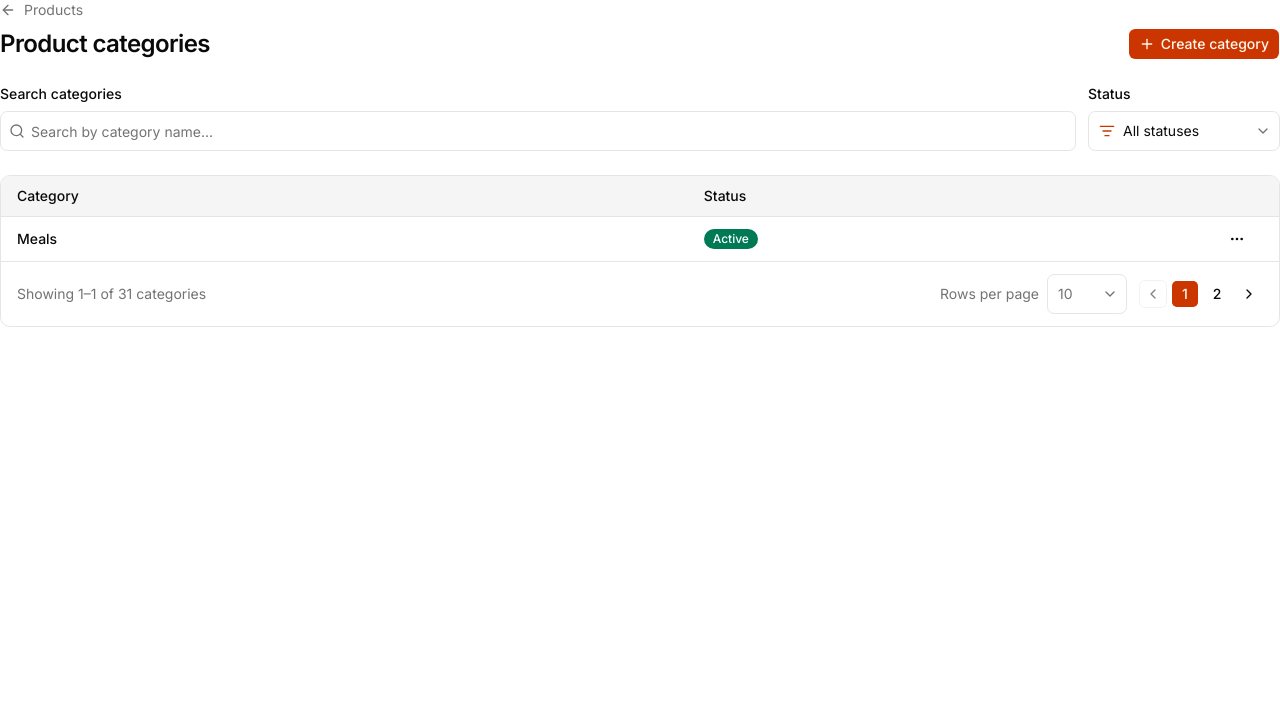
category management › validates name-only creation, retains a duplicate-name draft and retries successfully
The image size is (1280, 720).
Click the button "Create category" at (1204, 44), box [1128, 28, 1279, 60]
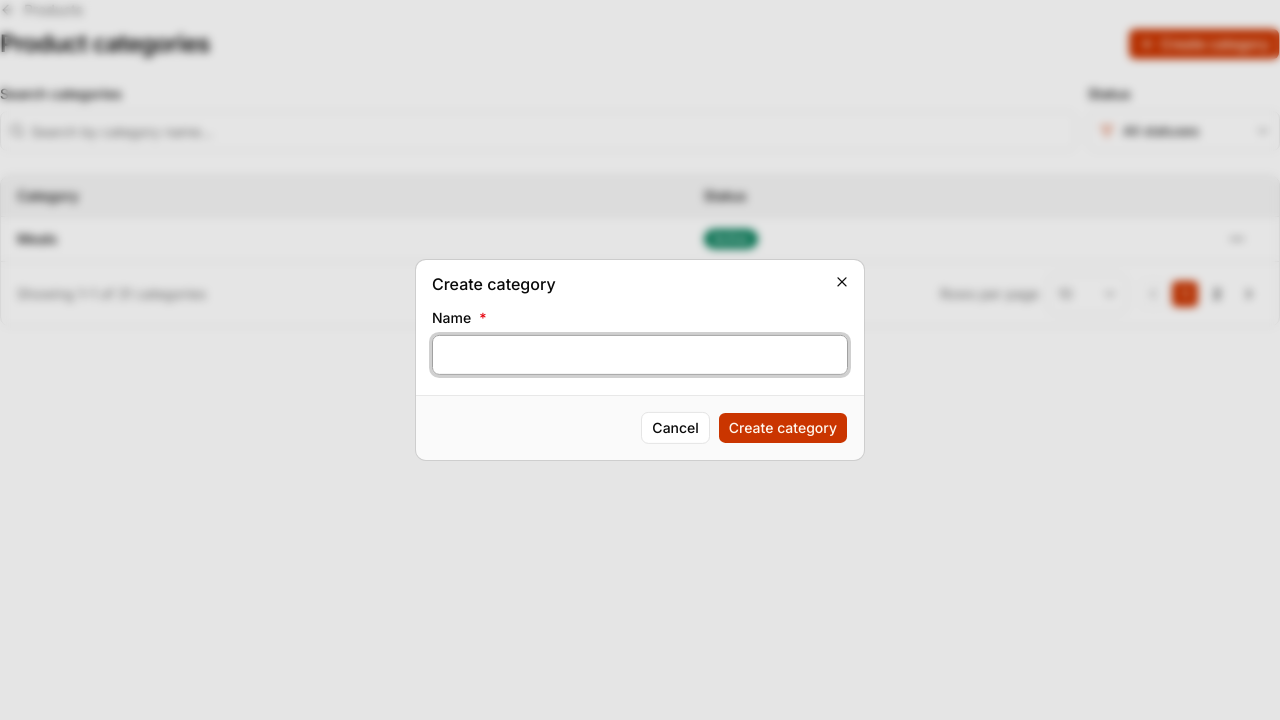
Click the button "Create category" at (783, 428), box [718, 412, 848, 444]
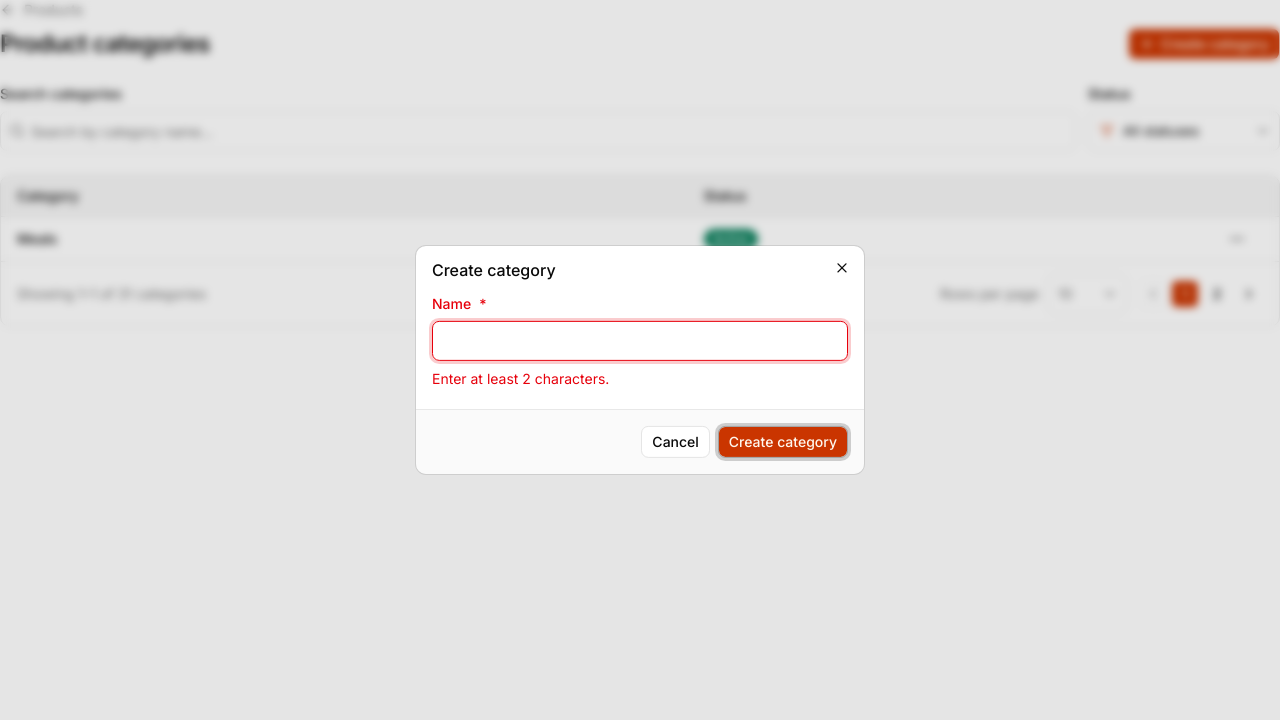
Expected: the text "Enter at least 2 characters." is shown, [432, 370, 609, 387]
Type "  Meals  " into the field labelled "Name *" at (640, 341), box [432, 321, 848, 361]
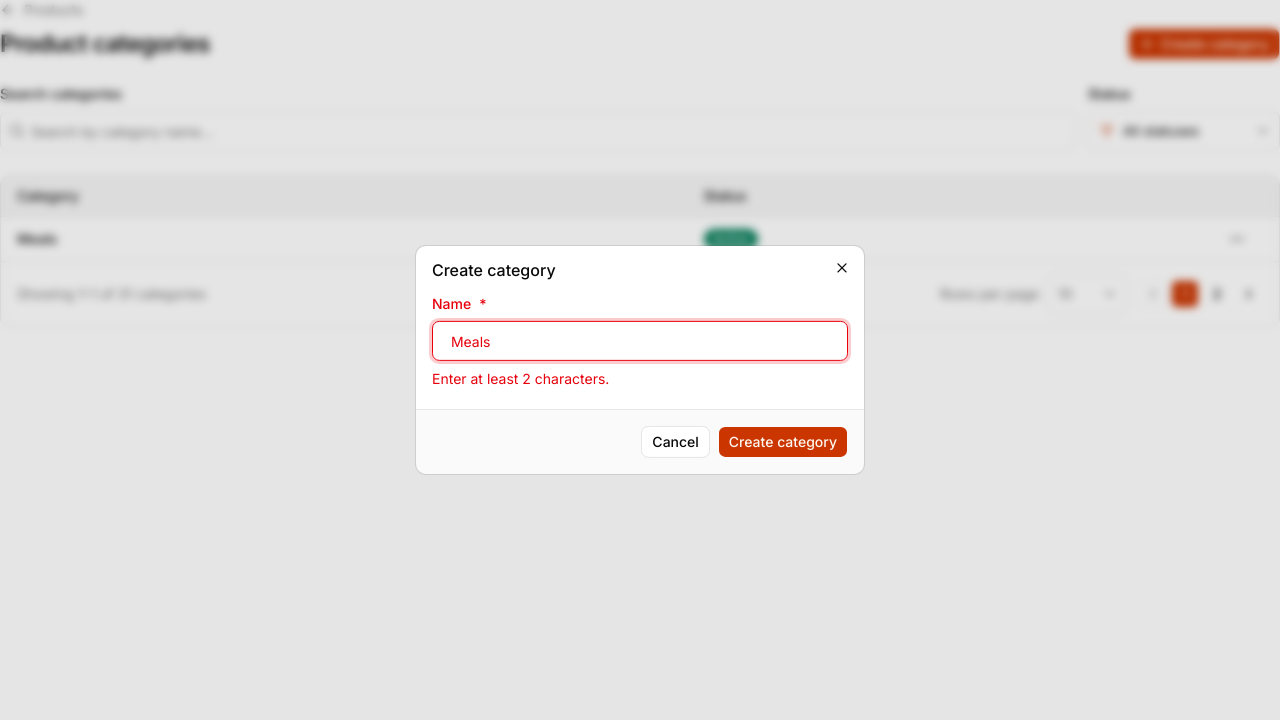
Click the button "Create category" at (783, 442), box [718, 426, 848, 458]
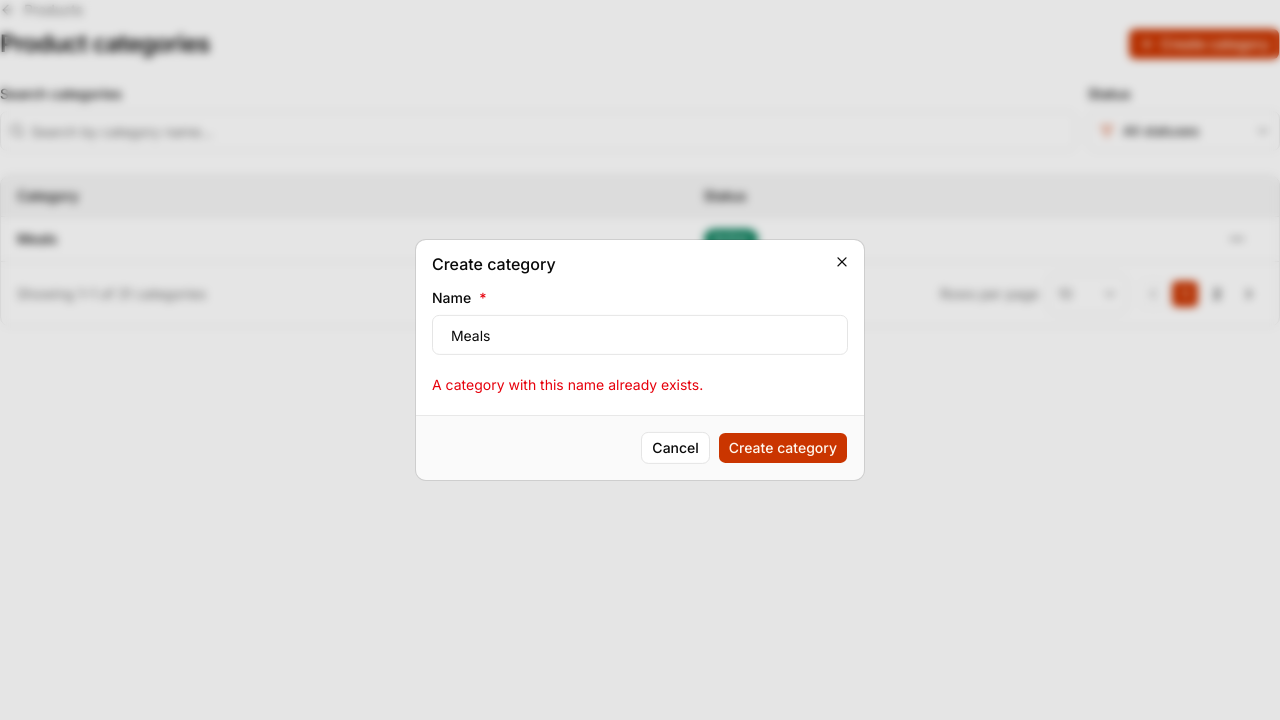
Expected: the message reads "A category with this name already exists.", [432, 376, 703, 393]
Click the button "Create category" at (783, 448), box [718, 432, 848, 464]
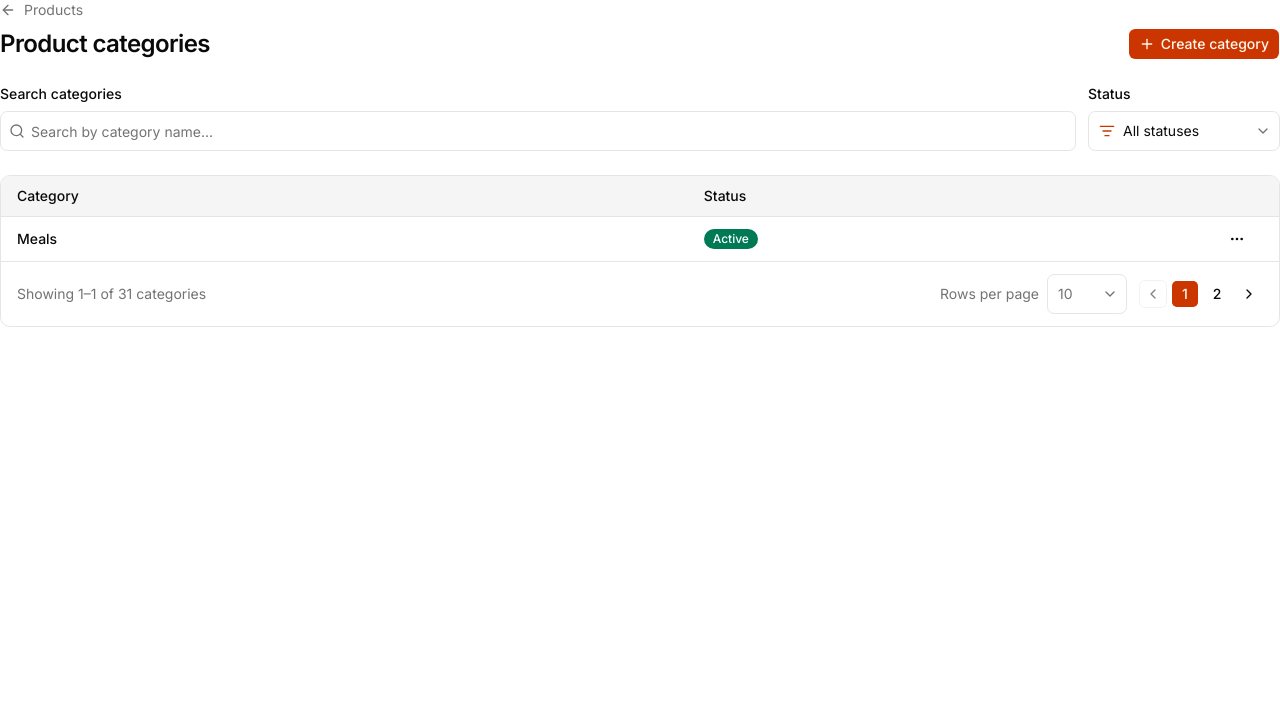
Expected: the dialog is gone
